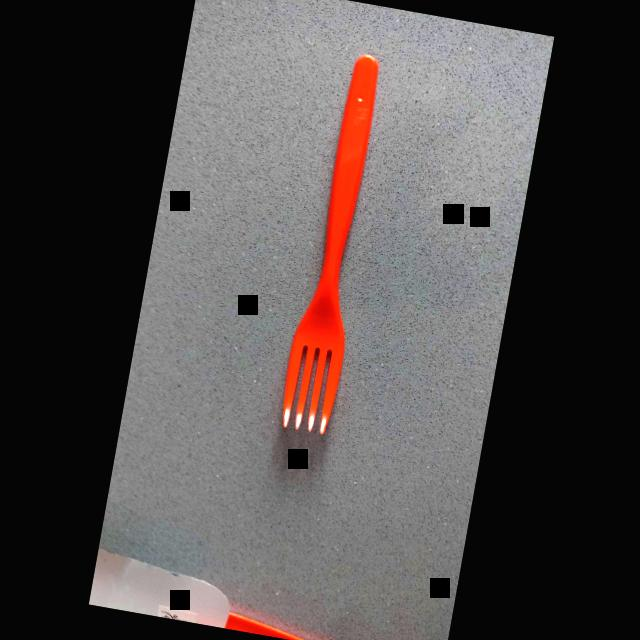plastic_cultery: (274, 47, 398, 442)
